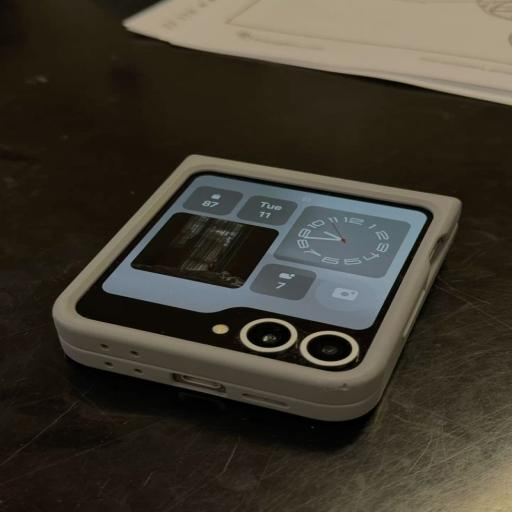people: (53, 156, 461, 421)
